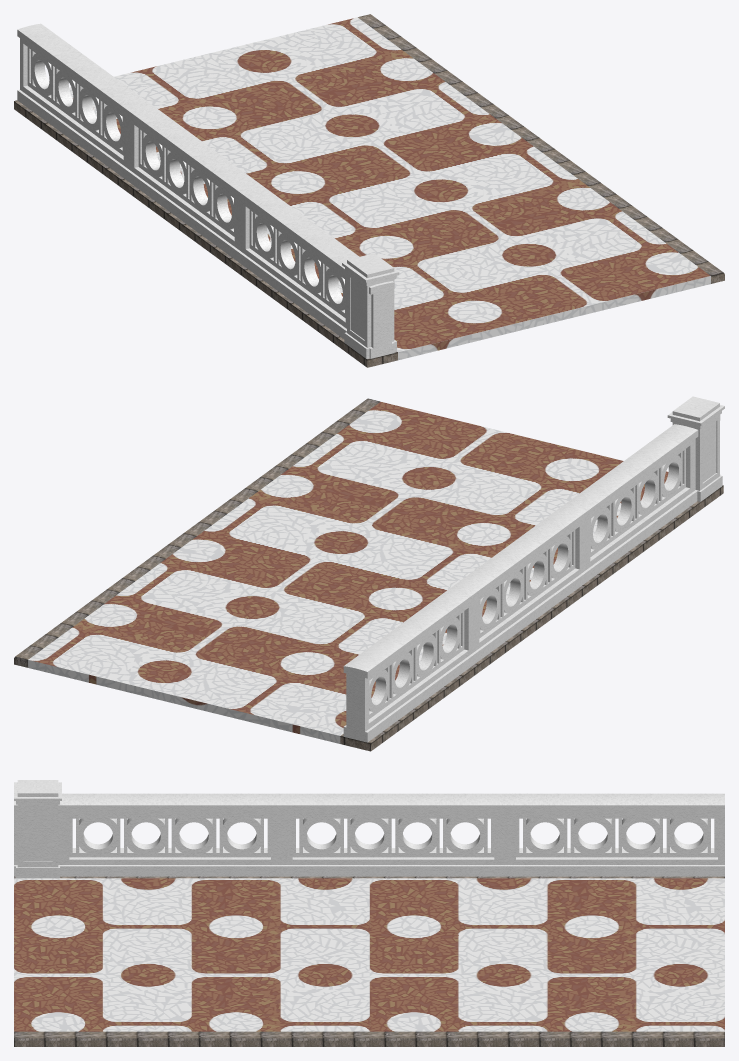
The model's file is calcada_2.fbx.
The picture shows the model from 3 angles, top to bottom: view 1: azimuth 30°, elevation 25°; view 2: azimuth 150°, elevation 25°; view 3: azimuth 270°, elevation 25°; orthographic projection.
Parts seen in each view (by area): view 1: Group1, Group_5_1, Group_7_1; view 2: Group1, Group_5_1, Group_7_1; view 3: Group1, Group_5_1, Group_7_1.
Boxes of the visible parts, box(x1,y1,x2,y2) form: Group1: box(14, 14, 724, 367); Group_5_1: box(17, 23, 394, 358); Group_7_1: box(342, 253, 399, 358); Group1: box(14, 398, 723, 751); Group_5_1: box(343, 415, 720, 742); Group_7_1: box(667, 396, 724, 501); Group1: box(14, 876, 724, 1046); Group_5_1: box(14, 793, 724, 876); Group_7_1: box(14, 780, 61, 878).
Bounding box in the file's own units: 13.48 × 3.28 × 22.98.
